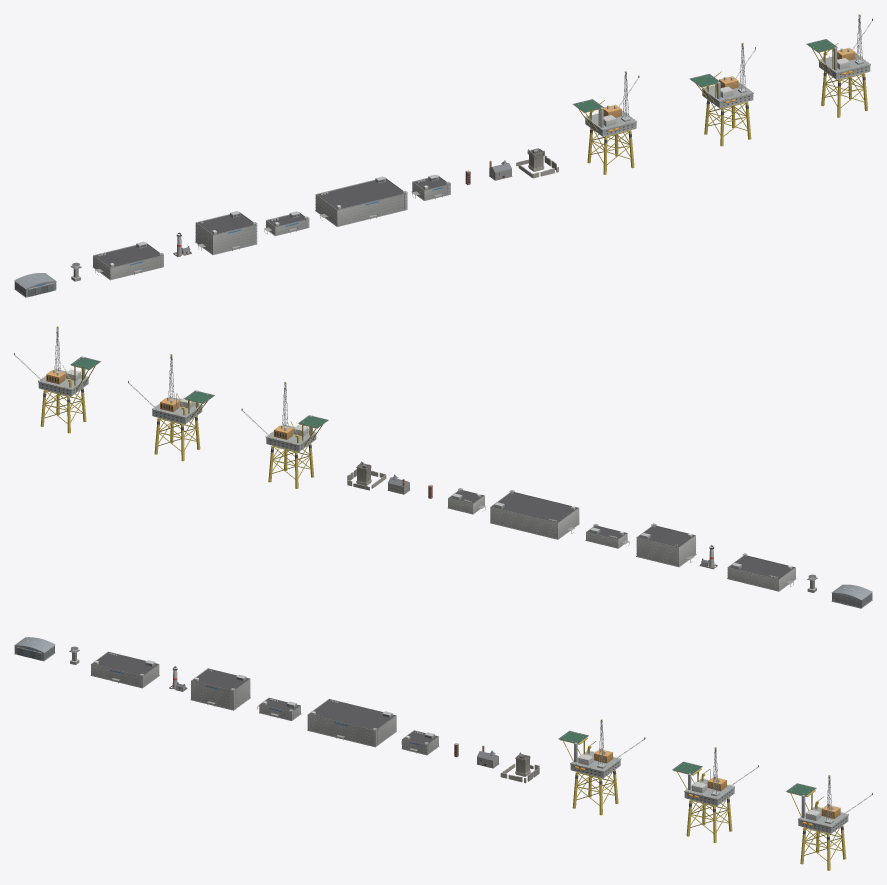
Rendered from landmarks.glb.
The picture shows the model from 3 angles, top to bottom: view 1: azimuth 30°, elevation 25°; view 2: azimuth 150°, elevation 25°; view 3: azimuth 330°, elevation 25°; orthographic projection. The views are drawn at different scales.
Visible parts, largest first — view 1: Main block.003 (game), Roof membrane.004 (game), Main block.001 (game), Roof membrane.001 (game), Main block (game), Roof membrane.002 (game); view 2: Main block.003 (game), Roof membrane.004 (game), Main block.001 (game), Roof membrane.001 (game), Main block (game), Roof membrane.002 (game); view 3: Main block.003 (game), Roof membrane.004 (game), Main block.001 (game), Roof membrane.001 (game), Main block (game), Roof membrane.002 (game).
Boxes of the visible parts, x1,y1,x2,y2 form: Main block.003 (game): (315,194,406,225); Roof membrane.004 (game): (317,179,403,209); Main block.001 (game): (195,223,256,254); Roof membrane.001 (game): (95,244,161,267); Main block (game): (93,256,163,279); Roof membrane.002 (game): (197,214,253,234); Main block.003 (game): (490,507,579,538); Roof membrane.004 (game): (492,493,577,522); Main block.001 (game): (636,536,695,566); Roof membrane.001 (game): (729,556,793,579); Main block (game): (727,568,795,590); Roof membrane.002 (game): (638,526,694,547); Main block.003 (game): (307,715,396,746); Roof membrane.004 (game): (309,699,394,729); Main block.001 (game): (191,680,250,709); Roof membrane.001 (game): (93,652,157,675); Main block (game): (91,665,159,687); Roof membrane.002 (game): (192,669,248,690).
Size of the model in its own units: 1147 by 119 by 55.54.
